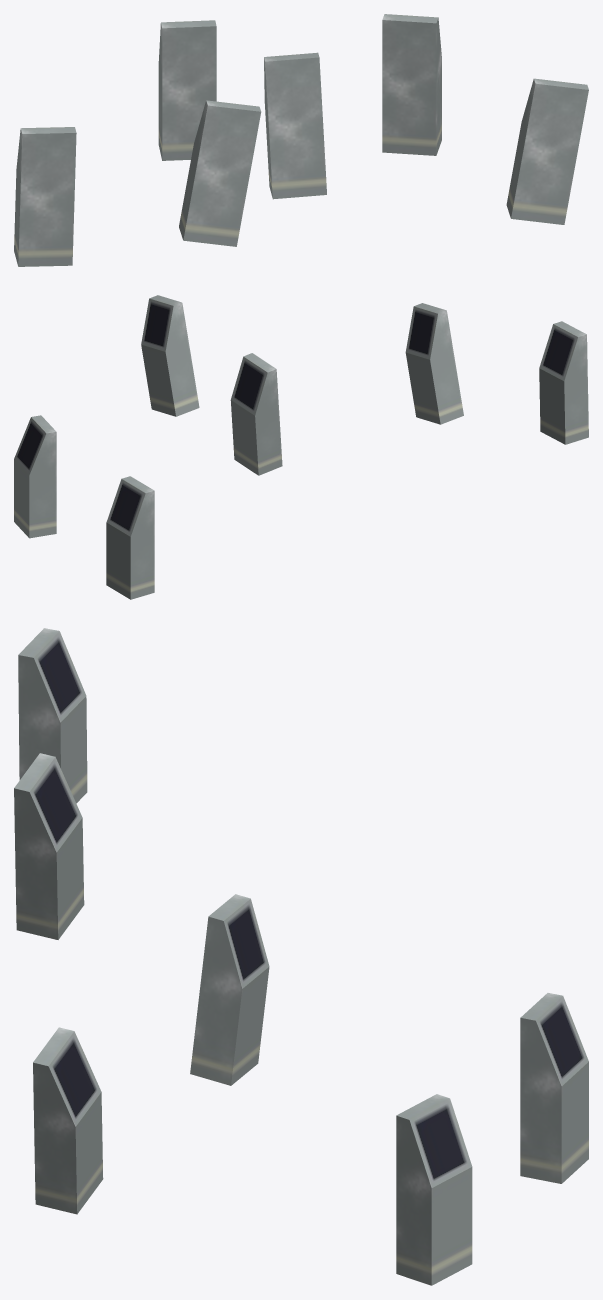
The model's file is field_winter_capsule_machine.fbx.
3 renders of one model, top to bottom at view 1: azimuth 30°, elevation 25°; view 2: azimuth 150°, elevation 25°; view 3: azimuth 270°, elevation 25°, orthographic. The views are drawn at different scales.
Visible parts, largest first — view 1: field_winter_capsule_machine; view 2: field_winter_capsule_machine; view 3: field_winter_capsule_machine.
Boxes of the visible parts, x1=… form: field_winter_capsule_machine: x1=14, y1=14, x2=588, y2=266; field_winter_capsule_machine: x1=14, y1=295, x2=588, y2=599; field_winter_capsule_machine: x1=14, y1=628, x2=588, y2=1285.
Bounding box in the file's own units: 792 × 345 × 564.
1 material, 1 textured.
